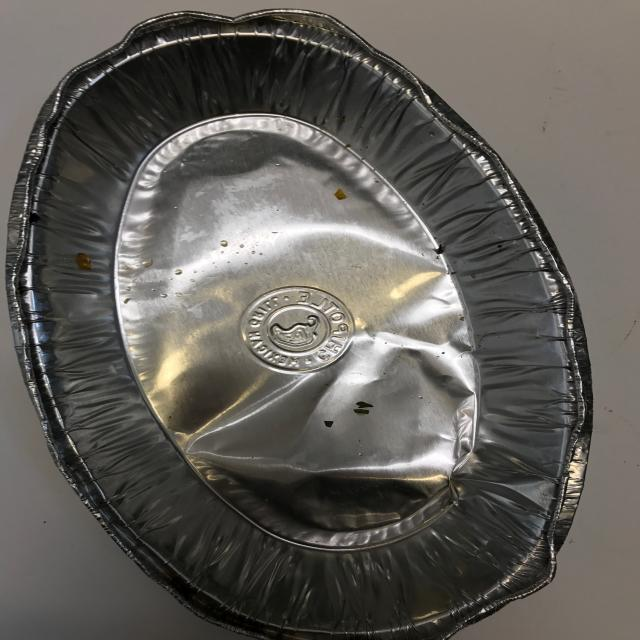metal: (8, 8, 596, 640)
